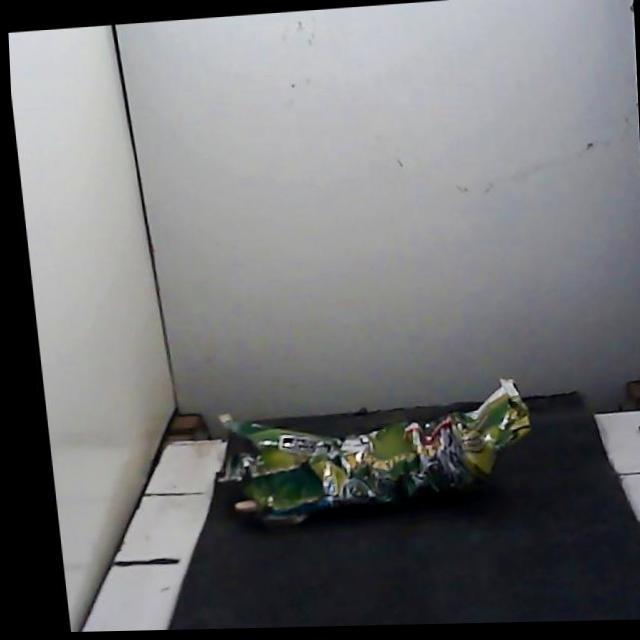plastico: (220, 379, 530, 522)
